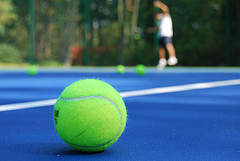tennis ball: (49, 77, 129, 155), (134, 63, 147, 77), (26, 64, 39, 77), (115, 65, 126, 74)
